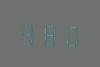eight: (39, 19, 58, 47)
nine: (18, 18, 37, 46)
zero: (59, 20, 78, 47)
